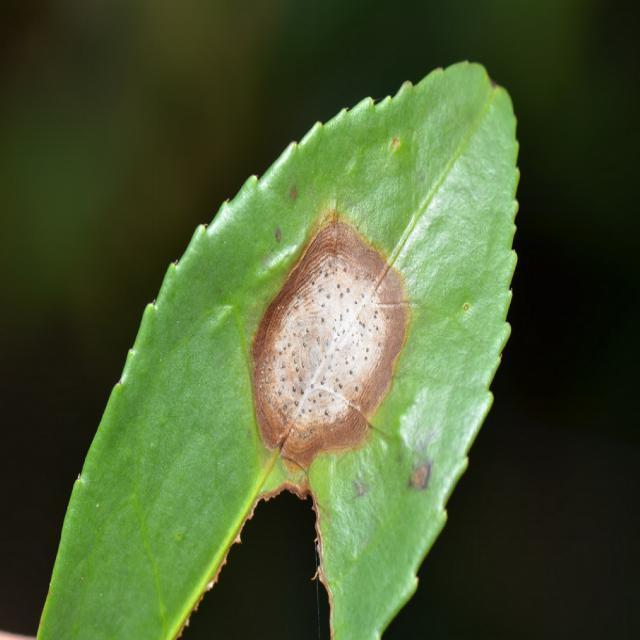Tea cloud leaf blight: (246, 217, 413, 469)
